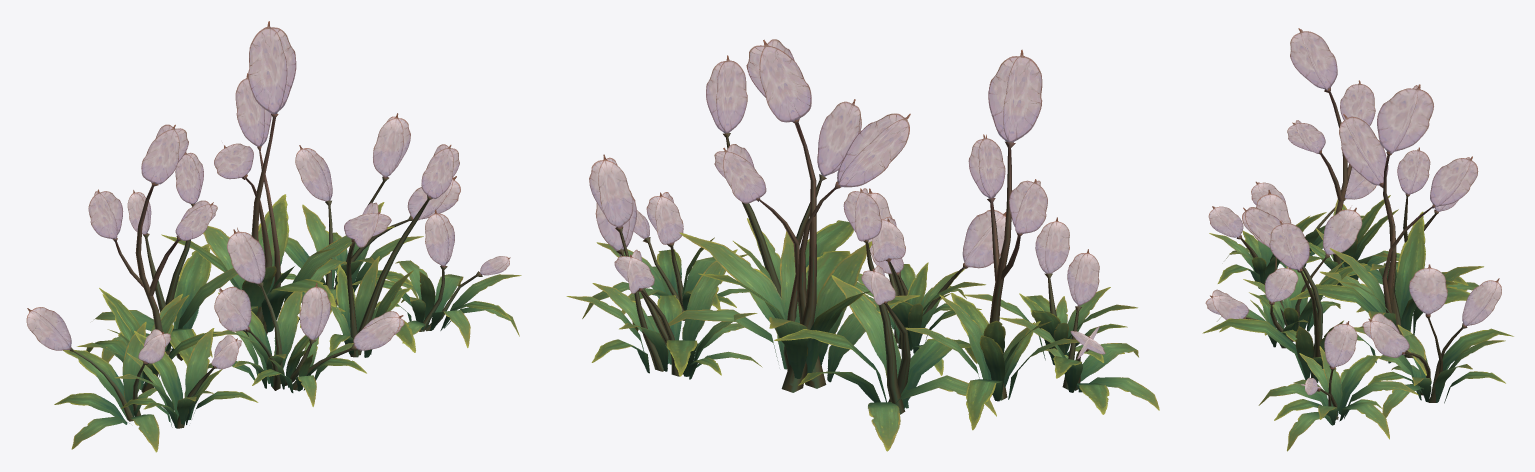
Rendered from Homeworld_Exterior_Xm_Plant_Grass_Desert_11_Lod0.fbx.
3 renders of one model, left to right at view 1: azimuth 30°, elevation 25°; view 2: azimuth 150°, elevation 25°; view 3: azimuth 270°, elevation 25°, orthographic. The views are drawn at different scales.
Visible parts, largest first — view 1: Area_Xm_Grass_CWSM_Bq_01_Lod0; view 2: Area_Xm_Grass_CWSM_Bq_01_Lod0; view 3: Area_Xm_Grass_CWSM_Bq_01_Lod0.
Boxes of the visible parts, bbox=[...] form: Area_Xm_Grass_CWSM_Bq_01_Lod0: bbox=[26, 21, 521, 452]; Area_Xm_Grass_CWSM_Bq_01_Lod0: bbox=[566, 39, 1159, 451]; Area_Xm_Grass_CWSM_Bq_01_Lod0: bbox=[1202, 28, 1513, 451].
Bounding box in the file's own units: 2.2 × 1.41 × 1.4.
